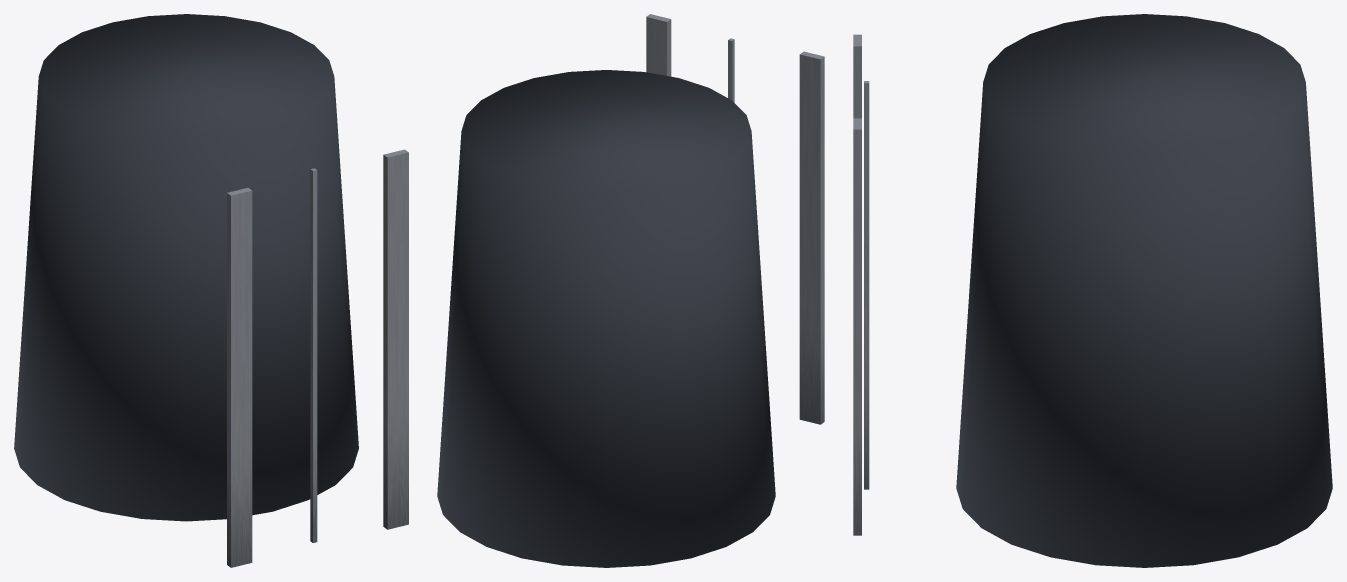
The model's file is tower_shaft.glb.
3 renders of one model, left to right at view 1: azimuth 30°, elevation 25°; view 2: azimuth 150°, elevation 25°; view 3: azimuth 270°, elevation 25°, orthographic. The views are drawn at different scales.
Visible parts, largest first — view 1: tower_shaft_paint, tower_shaft; view 2: tower_shaft_paint, tower_shaft; view 3: tower_shaft_paint, tower_shaft.
Part boxes in pixels (x1,y1,x2,y2): tower_shaft_paint: (14, 14, 358, 521); tower_shaft: (227, 149, 408, 567); tower_shaft_paint: (437, 70, 775, 567); tower_shaft: (646, 14, 824, 424); tower_shaft_paint: (956, 14, 1332, 567); tower_shaft: (853, 34, 869, 535).
Bounding box in the file's own units: 0.84 × 1 × 1.07.
2 materials, 1 textured.
